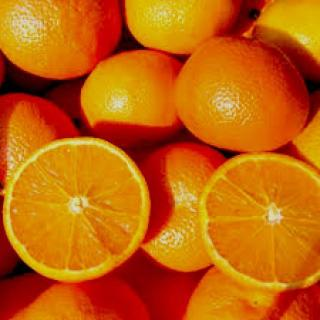orange: (0, 128, 150, 296), (182, 131, 320, 299), (166, 37, 314, 150)
